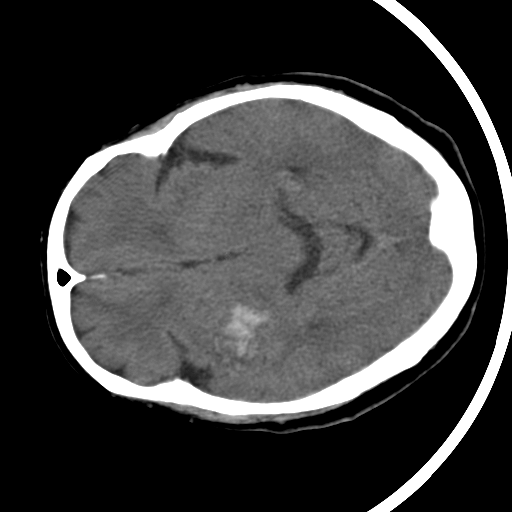a: (196, 281, 283, 380)
